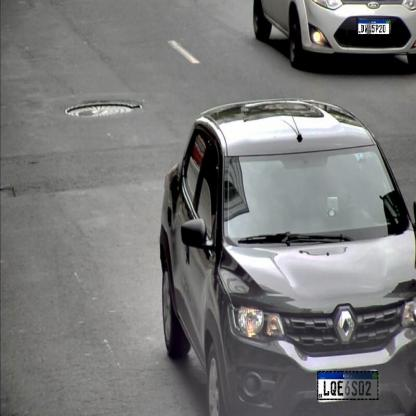PlacaM: (317, 371, 379, 400), (358, 19, 389, 35)
